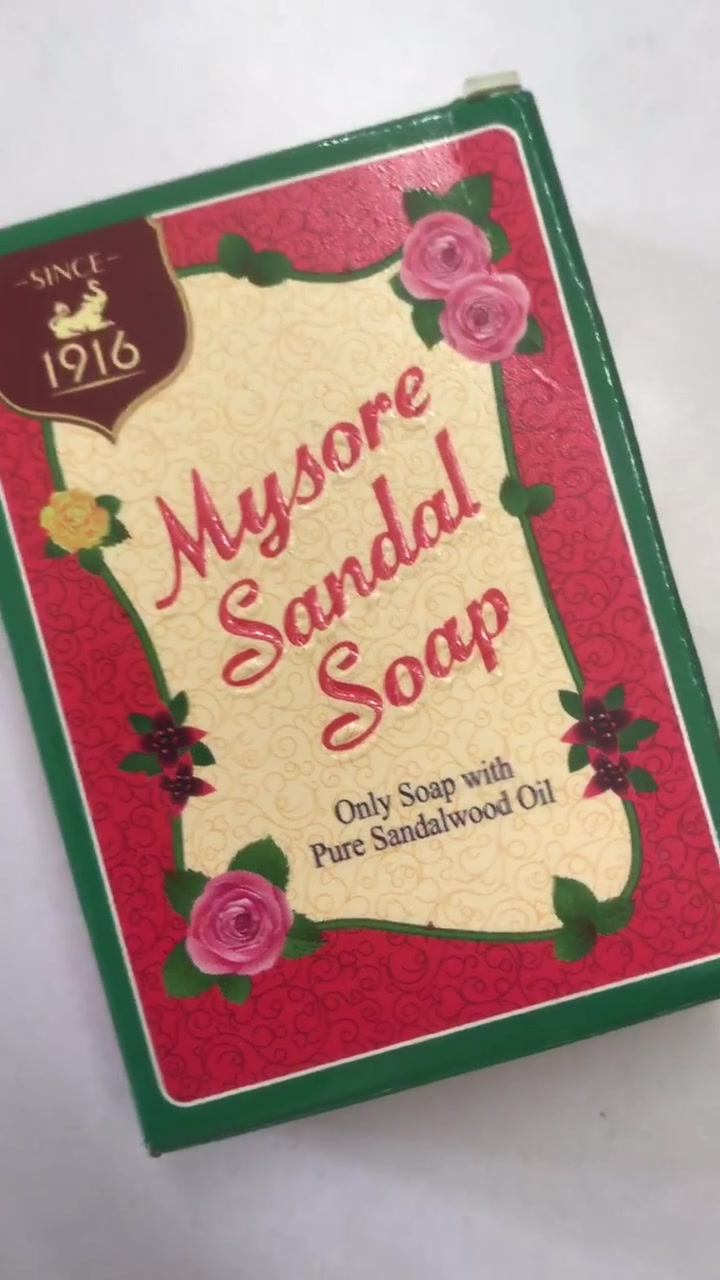mysore sandal soap: (14, 167, 720, 1078)
